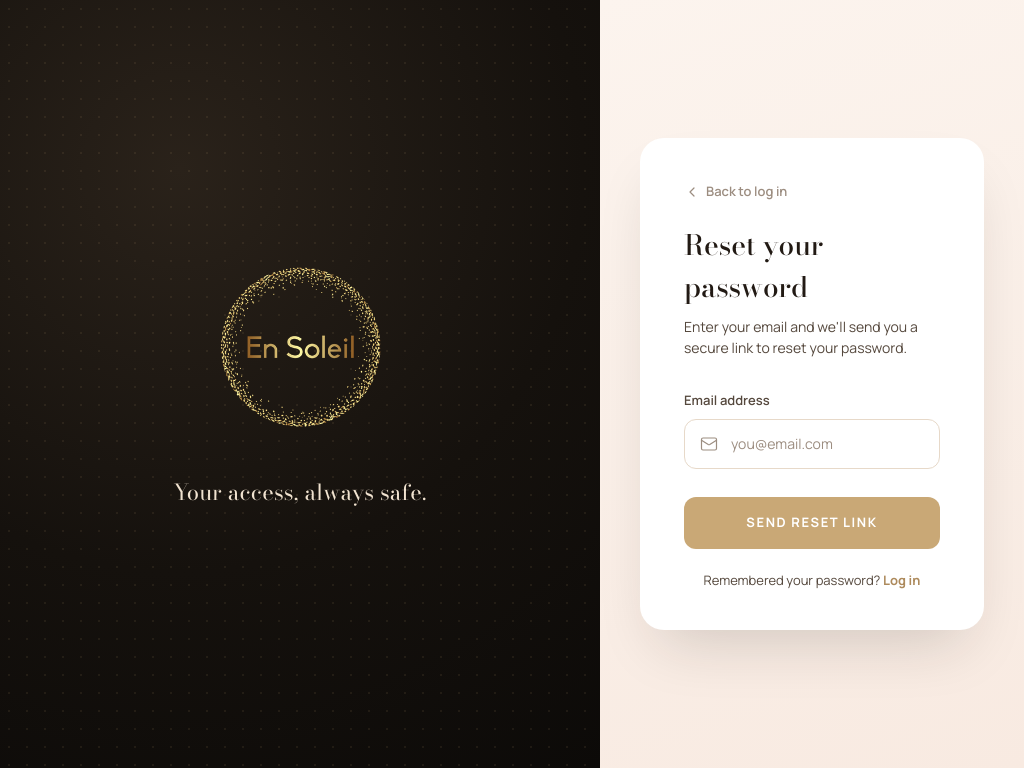
Test: forgot-password › exige un email con forma válida antes de pedir el reset
Type "alexandra.rivas" into the field labelled "Email address". click: x=812, y=444
box: x1=684 y1=419 x2=940 y2=469
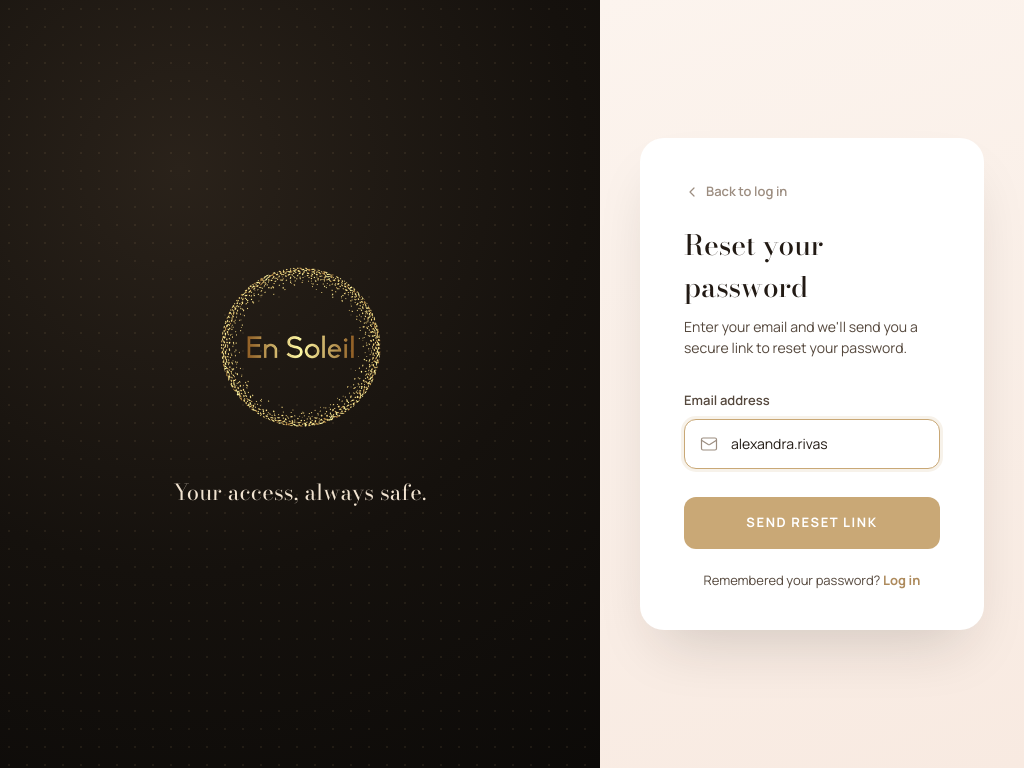
Click the button "Send reset link". click: x=812, y=523
box: x1=684 y1=497 x2=940 y2=549
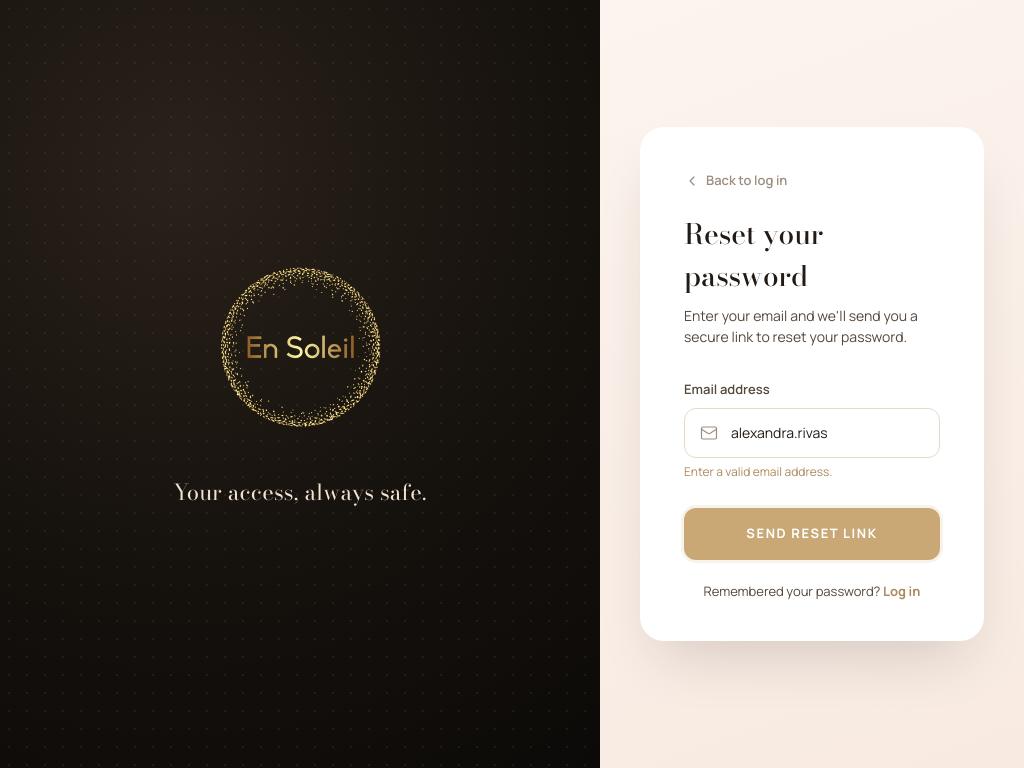
expect the text "Enter a valid email address." is shown: met, box x1=684 y1=463 x2=832 y2=480
